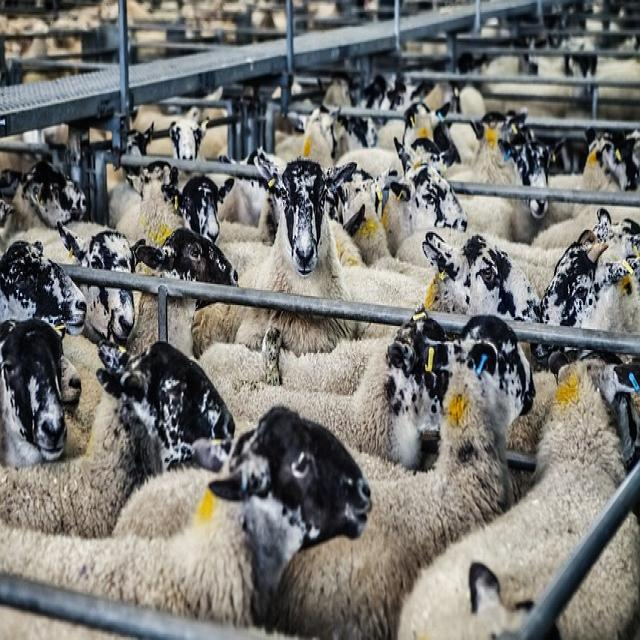goat: (93, 406, 374, 628), (0, 343, 235, 538), (0, 317, 75, 469), (274, 161, 356, 300), (382, 138, 466, 258)
